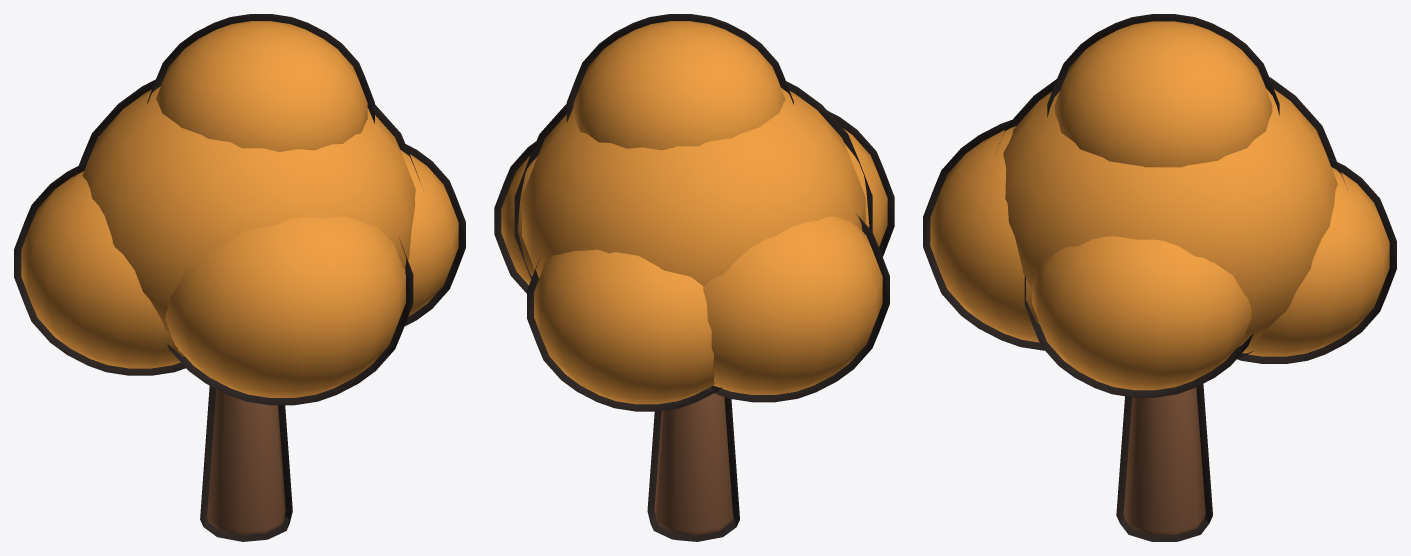
Rendered from Tree_Round_Orange.fbx.
The picture shows the model from 3 angles, left to right: view 1: azimuth 30°, elevation 25°; view 2: azimuth 150°, elevation 25°; view 3: azimuth 270°, elevation 25°; orthographic projection. The views are drawn at different scales.
Visible parts, largest first — view 1: PR_Tree_Round_Orange_LeafOrange, PR_Tree_Round_Orange_Outline, PR_Tree_Round_Orange_Trunk; view 2: PR_Tree_Round_Orange_LeafOrange, PR_Tree_Round_Orange_Outline, PR_Tree_Round_Orange_Trunk; view 3: PR_Tree_Round_Orange_LeafOrange, PR_Tree_Round_Orange_Outline, PR_Tree_Round_Orange_Trunk.
Part boxes in pixels (box(x1,y1,x2,y2)): PR_Tree_Round_Orange_LeafOrange: box(21, 21, 458, 397); PR_Tree_Round_Orange_Outline: box(14, 14, 465, 541); PR_Tree_Round_Orange_Trunk: box(207, 389, 285, 535); PR_Tree_Round_Orange_LeafOrange: box(501, 21, 887, 404); PR_Tree_Round_Orange_Outline: box(494, 14, 894, 541); PR_Tree_Round_Orange_Trunk: box(654, 393, 732, 535); PR_Tree_Round_Orange_LeafOrange: box(930, 21, 1389, 390); PR_Tree_Round_Orange_Outline: box(923, 14, 1396, 541); PR_Tree_Round_Orange_Trunk: box(1123, 387, 1205, 534).
Size of the model in its own units: 3.73 by 4.59 by 3.87.
